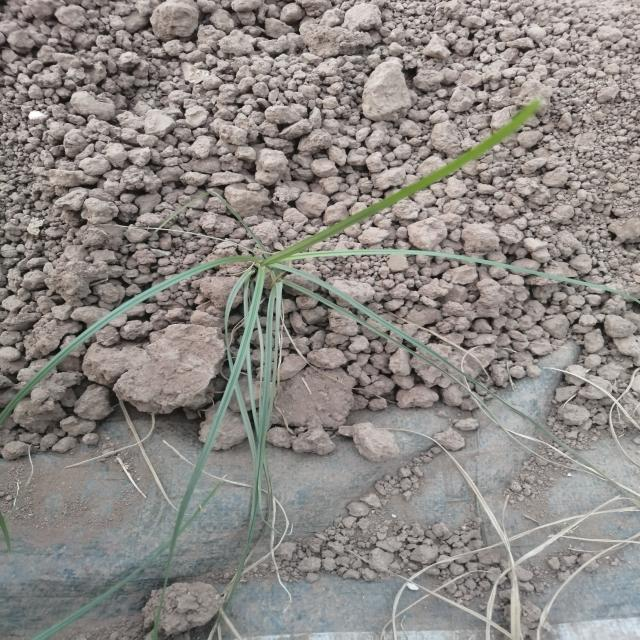sedge: (31, 72, 560, 528)
